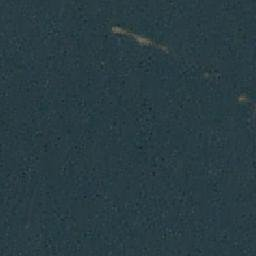debris: (108, 25, 169, 52), (234, 92, 256, 121)
